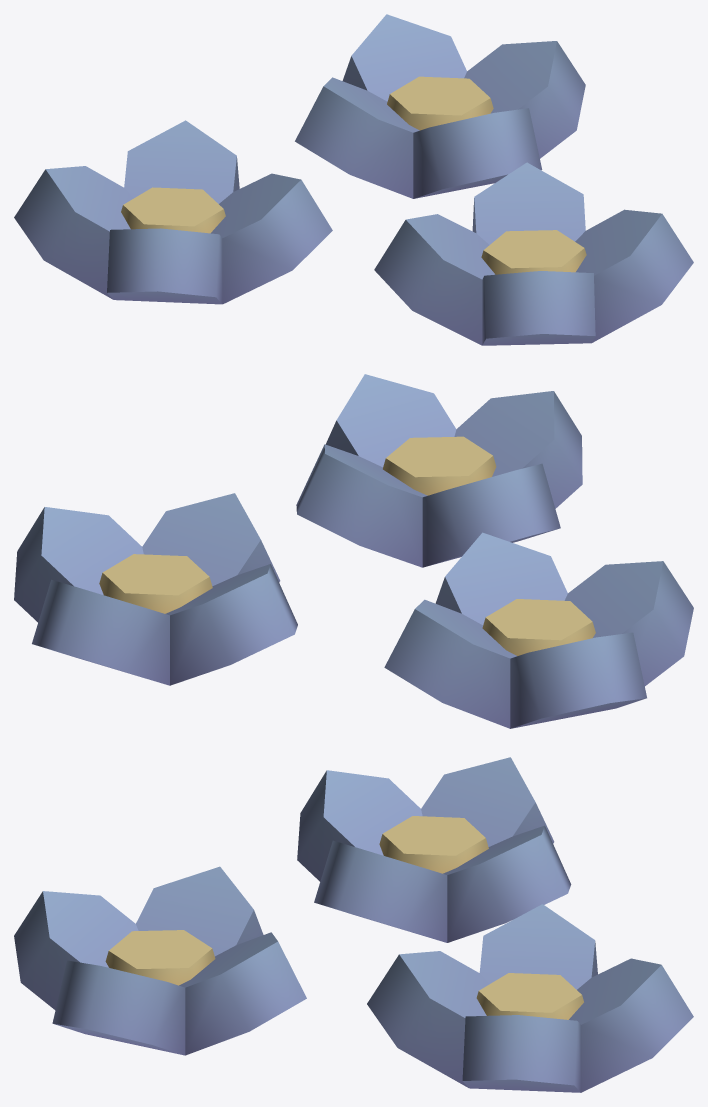
File: flowers.glb
3 views of the same model, one above another, from view 1: azimuth 30°, elevation 25°; view 2: azimuth 150°, elevation 25°; view 3: azimuth 270°, elevation 25° (orthographic). The views are drawn at different scales.
Visible parts, largest first — view 1: flowers; view 2: flowers; view 3: flowers.
Boxes of the visible parts, box(x1,y1,x2,y2) form: flowers: box(14, 14, 693, 345); flowers: box(14, 374, 693, 728); flowers: box(14, 757, 693, 1092).
Bounding box in the file's own units: 0.7766 × 0.137 × 0.7857.
